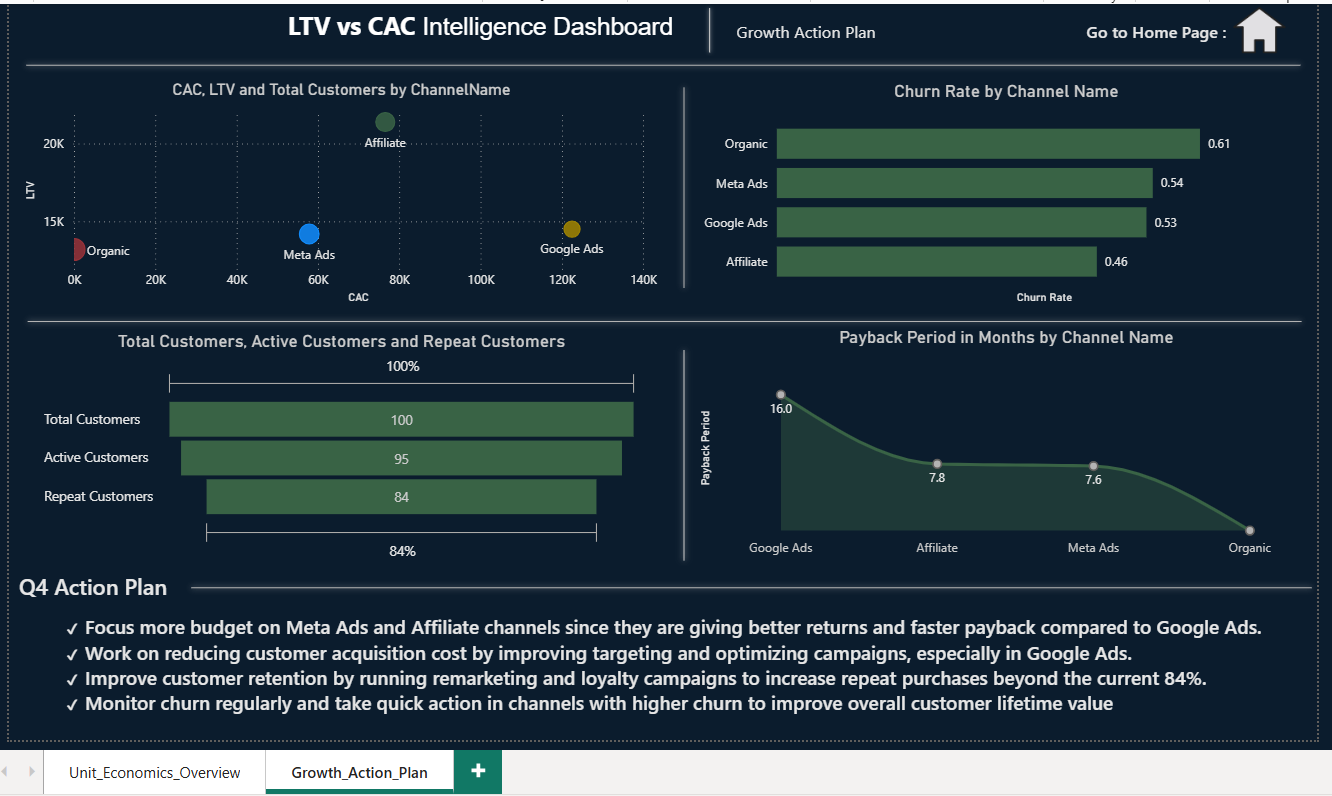

The dashboard page shown, as its layout file describes it:
{"tool":"powerbi","page":{"name":"Growth_Action_Plan","canvas":[1280,720],"ordinal":1},"visuals":[{"type":"textbox","box":[267.8,0,403.5,51.4],"z":0},{"type":"shape","box":[664,0,42.8,51.4],"z":1000},{"type":"textbox","box":[706.8,11,159,40.4],"z":2000},{"type":"shape","box":[11,44,1258.3,31.8],"z":3000},{"type":"scatterChart","fields":{"X":["Dim_Channel.CAC"],"Size":["Fact_Orders.Total Customers"],"Series":["Dim_Channel.ChannelName"],"Y":["Dim_Channel.LTV"]},"box":[11,74.6,628.5,223.8],"z":4000},{"type":"barChart","title":"Churn Rate by Channel Name","fields":{"Category":["Dim_Channel.ChannelName"],"Y":["Dim_Channel.Churn Rate"]},"box":[671.3,74.6,609,223.8],"z":5000},{"type":"shape","box":[639.5,75.8,41.6,207.9],"z":6000},{"type":"funnel","fields":{"Y":["Fact_Orders.Total Customers","Dim_Customers.Active Customers","Dim_Customers.Repeat Customers"]},"box":[29.3,319.2,591.9,231.1],"z":7000},{"type":"shape","box":[639.5,332.6,41.6,217.7],"z":8000},{"type":"shape","box":[12.2,215.2,1258.3,190.8],"z":9000},{"type":"shape","box":[172.4,550.3,1107.9,41.6],"z":10000},{"type":"stackedAreaChart","title":"Payback Period in Months by Channel Name","fields":{"Category":["Dim_Channel.ChannelName"],"Y":["Dim_Channel.Payback Period"]},"box":[671.3,315.5,609,234.8],"z":11000},{"type":"textbox","box":[51.4,591.9,1228.9,117.4],"z":12000},{"type":"textbox","box":[4.9,550.3,167.5,41.6],"z":13000},{"type":"image","box":[1177.6,0,91.7,51.4],"z":13001},{"type":"textbox","box":[1049.2,11,157.7,42.8],"z":13002}]}

Visuals, with their boxes on the page's 1280x720 design canvas (x1, y1, x2, y2). These are canvas units, not pixel positions in the 1332x796 screenshot, which may show the page scaled, cropped or inside an application window:
textbox: 268:0:671:51
shape: 664:0:707:51
textbox: 707:11:866:51
shape: 11:44:1269:76
scatterChart - Dim_Channel.CAC x Fact_Orders.Total Customers: 11:75:640:298
"Churn Rate by Channel Name" barChart: 671:75:1280:298
shape: 640:76:681:284
funnel - Fact_Orders.Total Customers x Dim_Customers.Active Customers: 29:319:621:550
shape: 640:333:681:550
shape: 12:215:1270:406
shape: 172:550:1280:592
"Payback Period in Months by Channel Name" stackedAreaChart: 671:316:1280:550
textbox: 51:592:1280:709
textbox: 5:550:172:592
image: 1178:0:1269:51
textbox: 1049:11:1207:54
